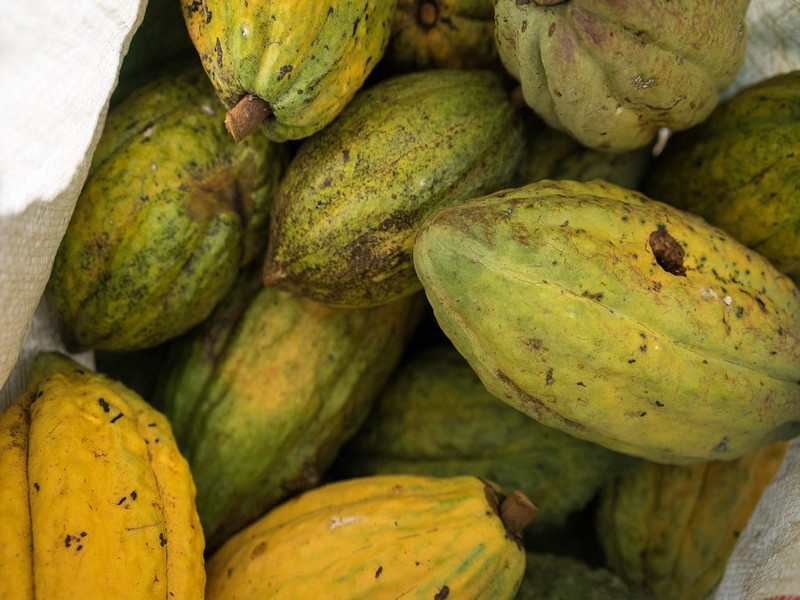Cacaopod: (415, 178, 800, 461)
